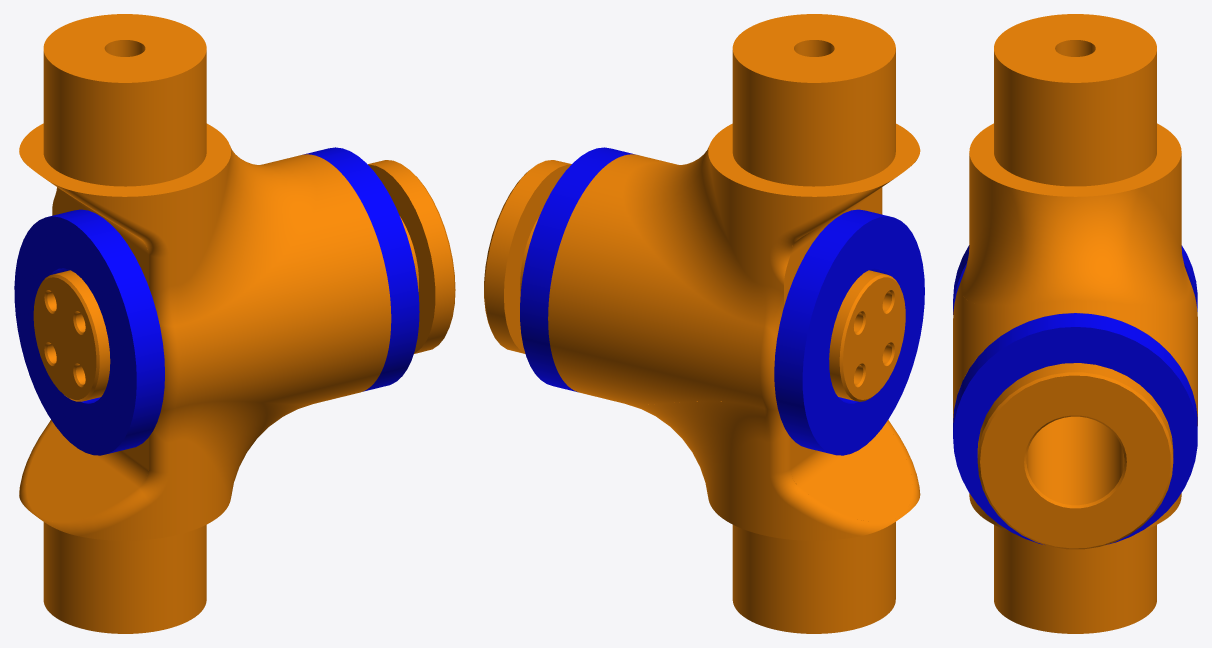
The model's file is ankle_pitch_link.dae.
3 views of the same model, side by side, from view 1: azimuth 30°, elevation 25°; view 2: azimuth 150°, elevation 25°; view 3: azimuth 270°, elevation 25° (orthographic).
Visible parts, largest first — view 1: layout_ankle, BR_Thrust_Needle_BA1730 (×2), Ankle_Pitch_Pin; view 2: layout_ankle, BR_Thrust_Needle_BA1730 (×2), Ankle_Pitch_Pin; view 3: layout_ankle, Ankle_Pitch_Pin, BR_Thrust_Needle_BA1730 (×2).
Boxes of the visible parts, x1,y1,x2,y2 form: layout_ankle: [19, 14, 391, 633]; BR_Thrust_Needle_BA1730 (×2): [14, 147, 419, 455]; Ankle_Pitch_Pin: [33, 160, 455, 401]; layout_ankle: [548, 14, 920, 633]; BR_Thrust_Needle_BA1730 (×2): [520, 147, 924, 455]; Ankle_Pitch_Pin: [484, 160, 905, 401]; layout_ankle: [953, 14, 1197, 633]; Ankle_Pitch_Pin: [977, 363, 1173, 549]; BR_Thrust_Needle_BA1730 (×2): [953, 245, 1197, 544].
Bounding box in the file's own units: 0.0524 × 0.0745 × 0.03.
